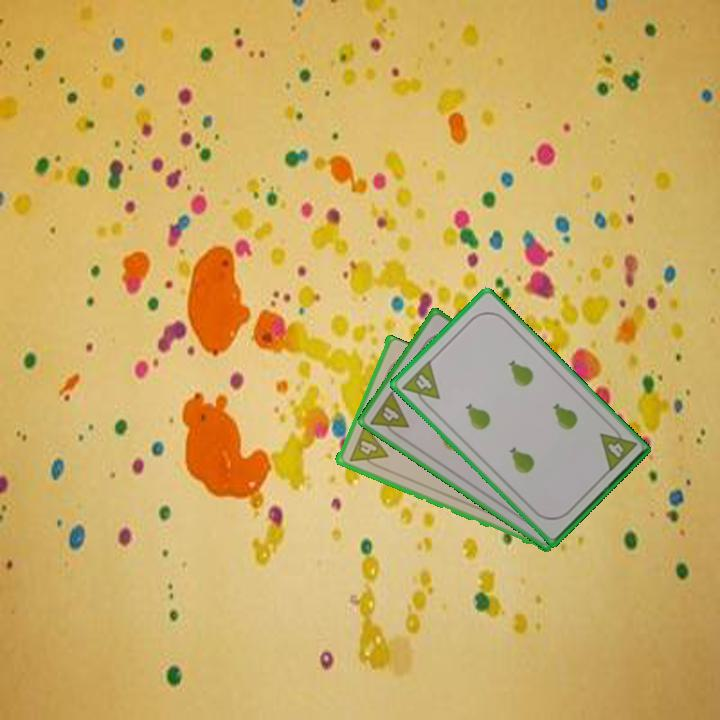4p: (398, 357, 443, 412), (367, 388, 412, 442), (596, 421, 639, 475), (345, 422, 390, 472)
